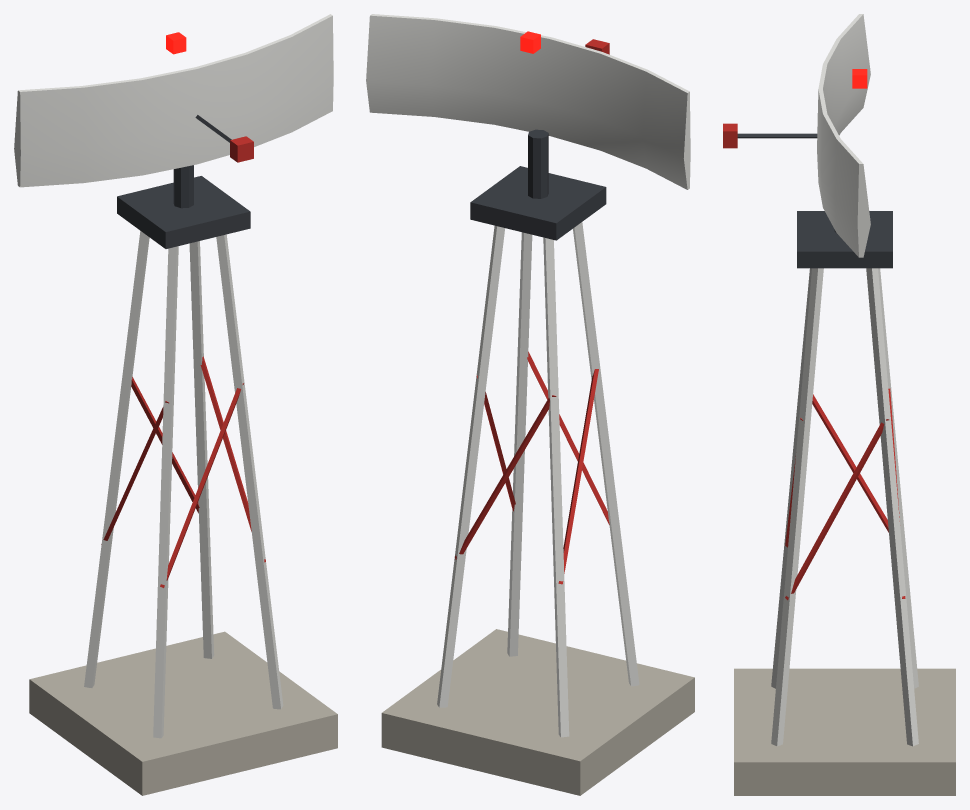
Rendered from radar.glb.
The picture shows the model from 3 angles, left to right: view 1: azimuth 30°, elevation 25°; view 2: azimuth 150°, elevation 25°; view 3: azimuth 270°, elevation 25°; orthographic projection. The views are drawn at different scales.
Visible parts, largest first — view 1: radar_Base, radar_Dish; view 2: radar_Base, radar_Dish; view 3: radar_Base, radar_Dish.
Part boxes in pixels (left/top/right/bottom): radar_Base: left=29, top=176, right=337, bottom=795; radar_Dish: left=14, top=14, right=333, bottom=208; radar_Base: left=381, top=166, right=694, bottom=795; radar_Dish: left=366, top=14, right=690, bottom=198; radar_Base: left=734, top=211, right=955, bottom=795; radar_Dish: left=723, top=14, right=870, bottom=257.
Size of the model in its own units: 4.8 by 10.1 by 3.15.
